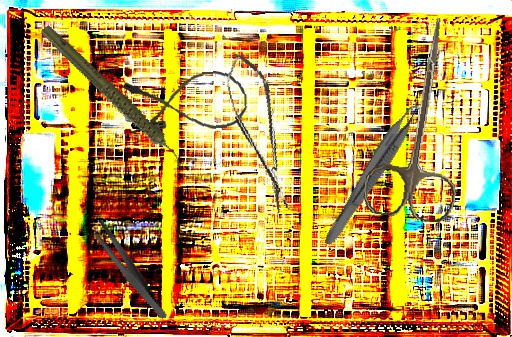Cannula: (122, 68, 250, 137)
Dressing Forceps: (90, 210, 168, 331)
Handpiece: (38, 3, 185, 192)
Iris Scissors: (361, 10, 480, 225)
Micro Scissor: (220, 48, 299, 218)
Tissue Forceps: (321, 95, 428, 252)
